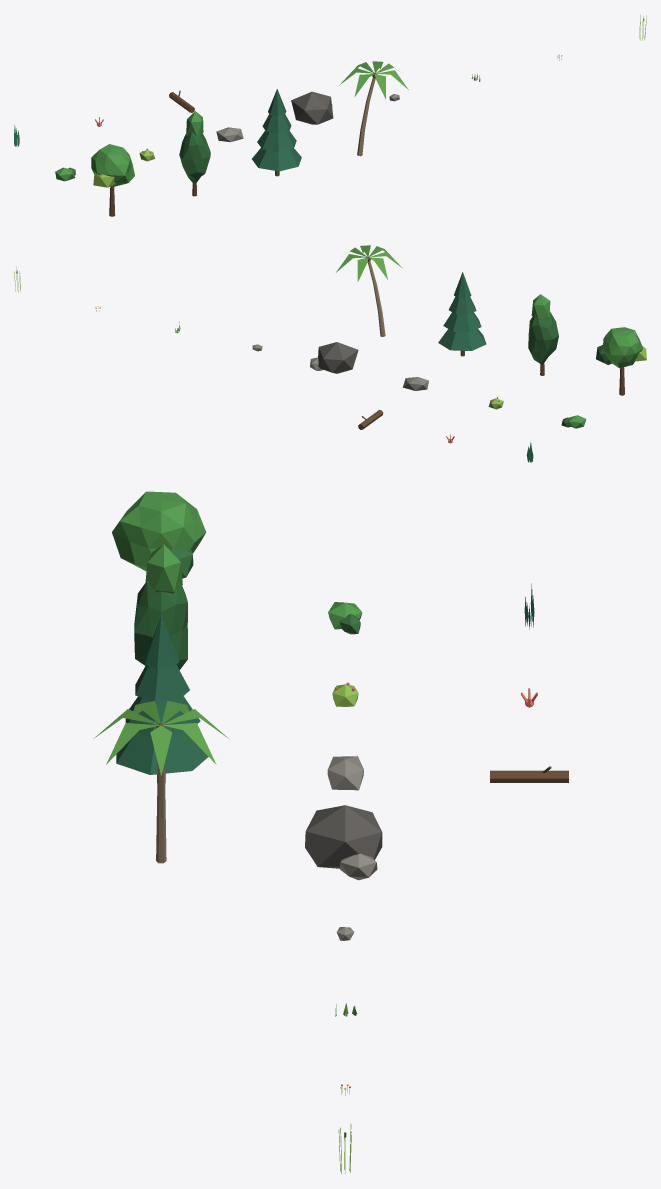
Rendered from kit_nature.glb.
3 renders of one model, top to bottom at view 1: azimuth 30°, elevation 25°; view 2: azimuth 150°, elevation 25°; view 3: azimuth 270°, elevation 25°, orthographic. The views are drawn at different scales.
Visible parts, largest first — view 1: tree_pine, tree_round, tree_tall, tree_palm, rock_b, rock_a; view 2: tree_pine, tree_round, tree_tall, tree_palm, rock_b; view 3: tree_pine, tree_round, rock_b, tree_tall, tree_palm, rock_a, log.
Part boxes in pixels (x1=…): tree_pine: x1=252, y1=89, x2=301, y2=176; tree_round: x1=91, y1=144, x2=134, y2=216; tree_tall: x1=179, y1=111, x2=210, y2=196; tree_palm: x1=339, y1=61, x2=408, y2=156; rock_b: x1=291, y1=91, x2=333, y2=124; rock_a: x1=216, y1=127, x2=243, y2=142; tree_pine: x1=438, y1=272, x2=486, y2=356; tree_round: x1=596, y1=327, x2=646, y2=395; tree_tall: x1=528, y1=294, x2=558, y2=375; tree_palm: x1=336, y1=245, x2=402, y2=336; rock_b: x1=310, y1=342, x2=358, y2=373; tree_pine: x1=116, y1=616, x2=208, y2=782; tree_round: x1=112, y1=491, x2=206, y2=578; rock_b: x1=305, y1=805, x2=382, y2=880; tree_tall: x1=134, y1=544, x2=187, y2=670; tree_palm: x1=93, y1=701, x2=229, y2=863; rock_a: x1=327, y1=756, x2=363, y2=790; log: x1=490, y1=766, x2=568, y2=782.
Size of what is drawn, in the model's own units: 51.26 by 7.35 by 18.13.
